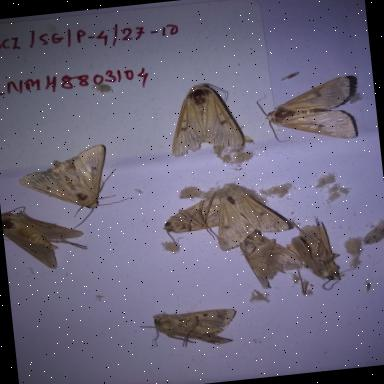abw: (260, 62, 370, 151), (154, 65, 251, 161), (11, 128, 116, 216), (4, 184, 86, 279), (144, 294, 252, 362), (204, 170, 286, 258), (230, 220, 294, 290), (148, 196, 234, 248), (290, 216, 346, 284)
